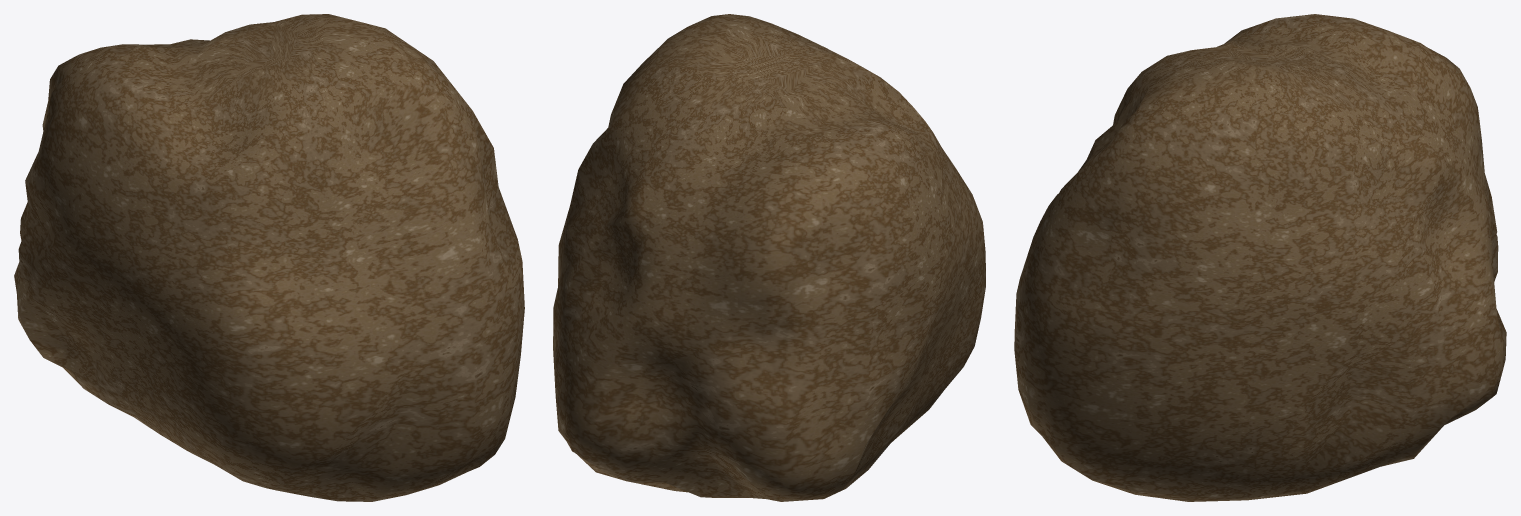
The model's file is brown asteroid.FBX.
3 views of the same model, side by side, from view 1: azimuth 30°, elevation 25°; view 2: azimuth 150°, elevation 25°; view 3: azimuth 270°, elevation 25° (orthographic). The views are drawn at different scales.
Parts seen in each view (by area): view 1: Meteorite_001; view 2: Meteorite_001; view 3: Meteorite_001.
Part boxes in pixels (<box>): Meteorite_001: <box>14,14,524,501</box>; Meteorite_001: <box>553,14,985,501</box>; Meteorite_001: <box>1014,14,1506,501</box>.
Bounding box in the file's own units: 4.69 × 5.16 × 5.51.
